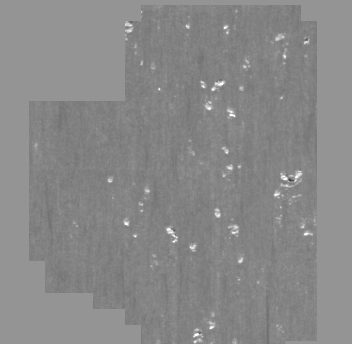oxl: (35, 10, 317, 334)
